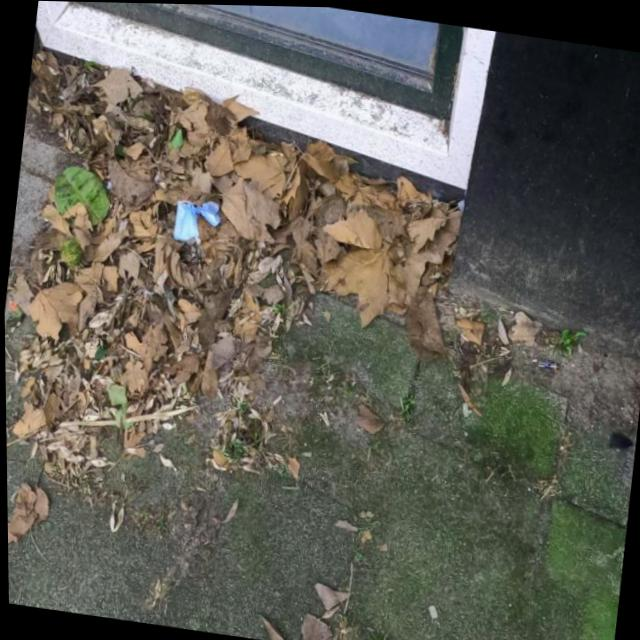Mask: (169, 190, 221, 249)
